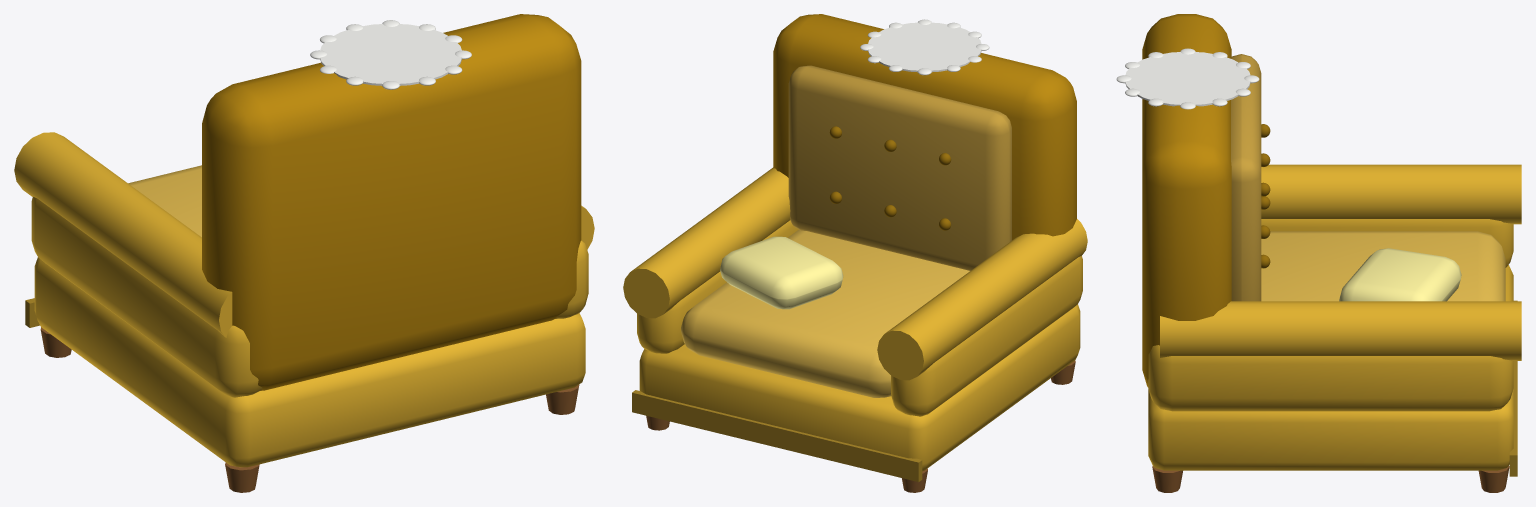
Rendered from sams_armchair.fbx.
The picture shows the model from 3 angles, left to right: view 1: azimuth 30°, elevation 25°; view 2: azimuth 150°, elevation 25°; view 3: azimuth 270°, elevation 25°; orthographic projection. The views are drawn at different scales.
Parts seen in each view (by area): view 1: Sam's Armchair; view 2: Sam's Armchair; view 3: Sam's Armchair.
Boxes of the visible parts, x1,y1,x2,y2 form: Sam's Armchair: (14,14,594,492); Sam's Armchair: (623,14,1087,492); Sam's Armchair: (1116,14,1521,492).
Size of the model in its own units: 1.93 by 1.9 by 2.04.
